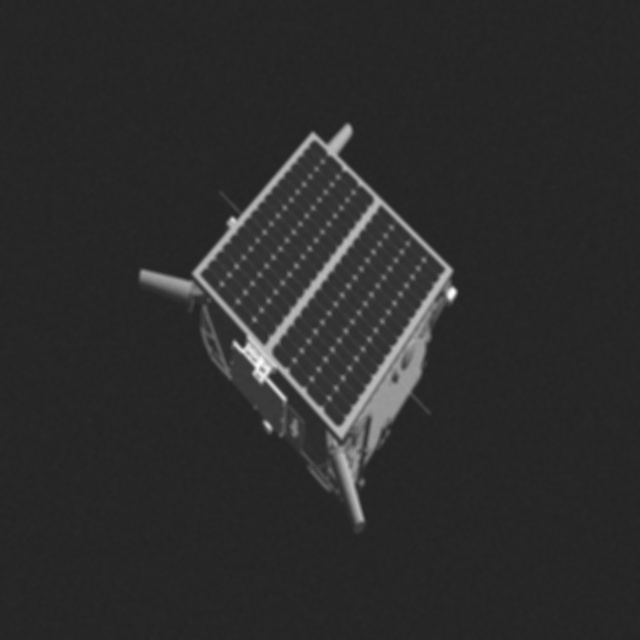satellite: (124, 112, 462, 526)
